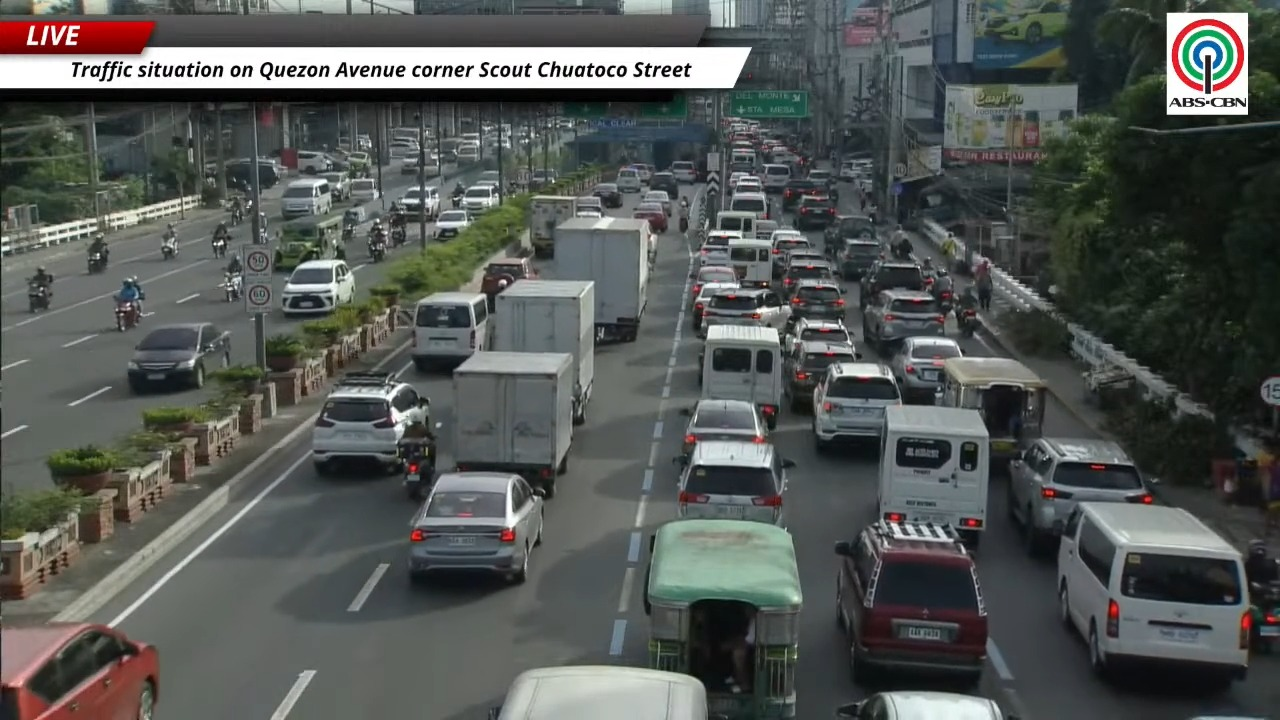car: (835, 519, 987, 685), (1008, 438, 1152, 555), (0, 623, 159, 719), (407, 472, 545, 582), (311, 372, 429, 473), (678, 440, 794, 526), (812, 361, 900, 451), (127, 322, 230, 393), (863, 290, 945, 356), (836, 690, 1018, 719), (783, 340, 857, 411), (682, 399, 766, 458), (889, 336, 962, 403), (281, 260, 355, 315), (700, 288, 790, 333), (982, 0, 1067, 44), (480, 256, 536, 311), (859, 260, 925, 306), (690, 279, 740, 333), (782, 318, 853, 353), (782, 253, 835, 299), (790, 279, 845, 320), (771, 230, 811, 277), (836, 239, 881, 279), (690, 265, 738, 301), (824, 214, 876, 246), (699, 230, 742, 265), (795, 195, 836, 230), (398, 186, 439, 219), (782, 179, 825, 209), (462, 184, 500, 215), (632, 202, 667, 233), (435, 210, 471, 239), (321, 171, 353, 203), (785, 246, 827, 269), (640, 190, 672, 216), (297, 151, 332, 174), (350, 178, 381, 203), (592, 183, 622, 208), (614, 167, 642, 192), (649, 173, 678, 197), (575, 195, 605, 216), (670, 161, 697, 183), (388, 140, 419, 159), (455, 143, 479, 165), (733, 176, 762, 194), (531, 168, 557, 188), (807, 169, 834, 187), (346, 152, 371, 171), (838, 160, 860, 181), (631, 163, 653, 184), (400, 152, 420, 174), (474, 170, 501, 186), (726, 171, 749, 188), (575, 208, 603, 218)
motorcycle: (1250, 581, 1279, 653), (401, 442, 434, 501), (955, 307, 980, 337), (115, 300, 138, 331), (28, 282, 50, 312), (221, 272, 241, 302), (368, 237, 385, 262), (936, 290, 953, 314), (87, 252, 106, 273), (160, 237, 178, 259), (212, 236, 228, 259), (391, 226, 406, 246), (230, 207, 244, 225), (341, 224, 354, 243), (254, 227, 268, 244), (451, 192, 463, 208)
truck: (452, 352, 573, 497), (877, 405, 989, 545), (492, 279, 594, 424), (555, 217, 651, 342), (530, 195, 576, 257)
